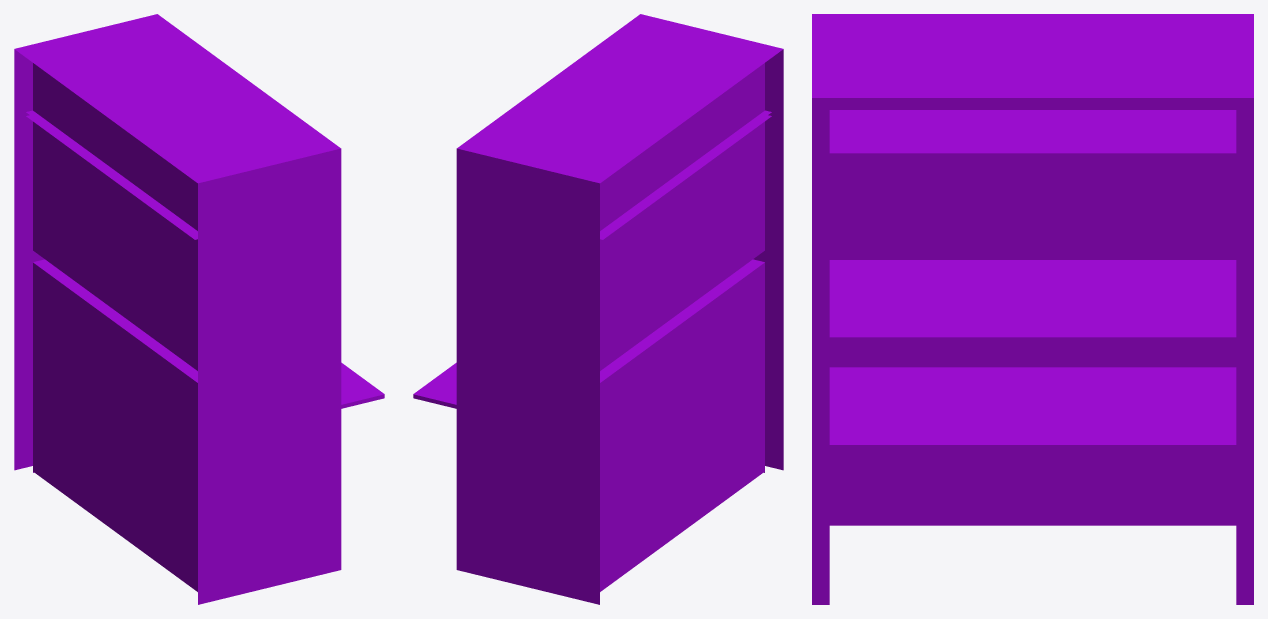
The model's file is sm_computerDesk_low.fbx.
The picture shows the model from 3 angles, left to right: view 1: azimuth 30°, elevation 25°; view 2: azimuth 150°, elevation 25°; view 3: azimuth 270°, elevation 25°; orthographic projection. The views are drawn at different scales.
Parts seen in each view (by area): view 1: polySurface105; view 2: polySurface105; view 3: polySurface105.
Part boxes in pixels (x1=…): polySurface105: x1=14, y1=14, x2=384, y2=604; polySurface105: x1=413, y1=14, x2=783, y2=604; polySurface105: x1=812, y1=14, x2=1253, y2=604.
Size of the model in its own units: 270 by 559 by 442.
